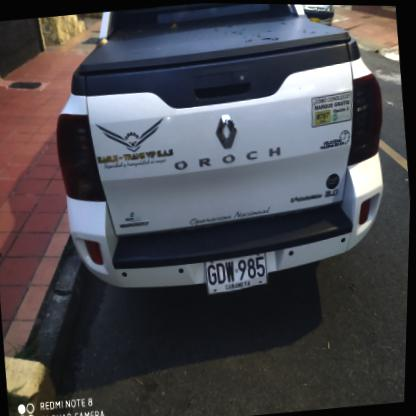placa: (199, 249, 275, 298)
